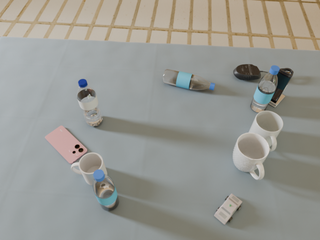bottle: (251, 65, 280, 113), (77, 79, 103, 127), (92, 170, 119, 211), (163, 69, 215, 90)
cup: (233, 132, 270, 180), (249, 111, 283, 151), (71, 153, 107, 185)
mouse: (233, 64, 264, 80)
phone: (45, 126, 87, 164), (271, 69, 292, 103)
toy_car: (214, 194, 242, 224)
